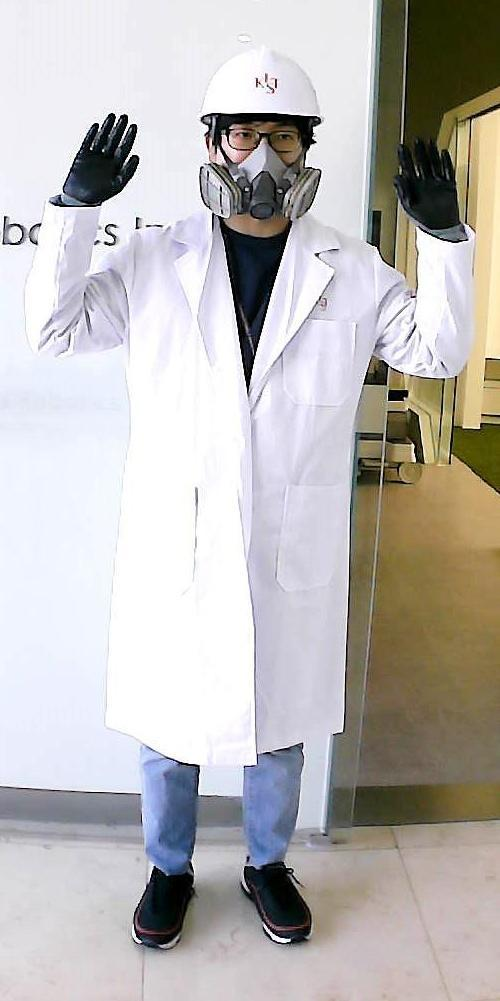lab_coat: (97, 248, 384, 740)
